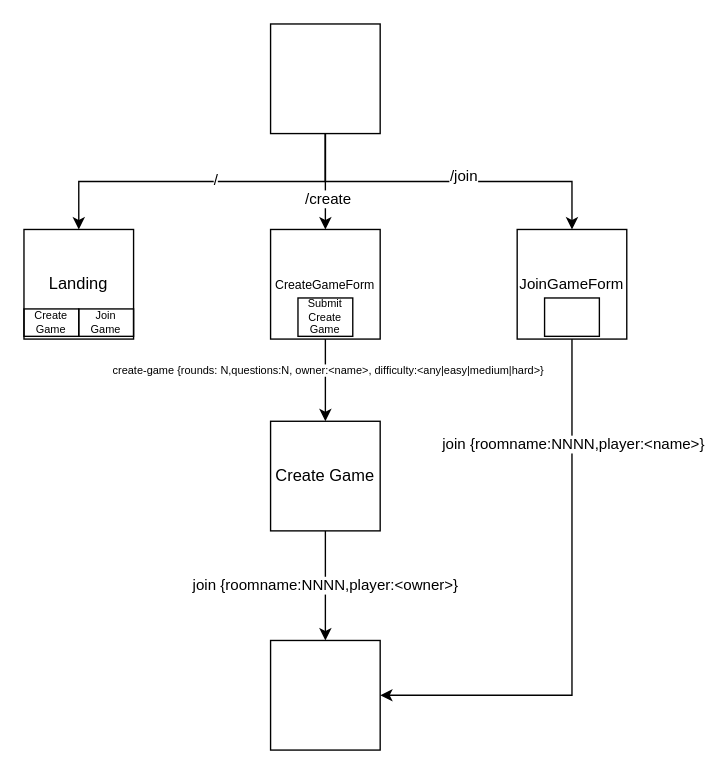
Some shapes in this 727 by 774 pixel diagram are drawn without their labels. Here are the shapes that lost their labels. From the top down, the centre of each, then its label:
the point at 324,78: App
the point at 571,316: Submit Join Game
the point at 324,694: Game Room
